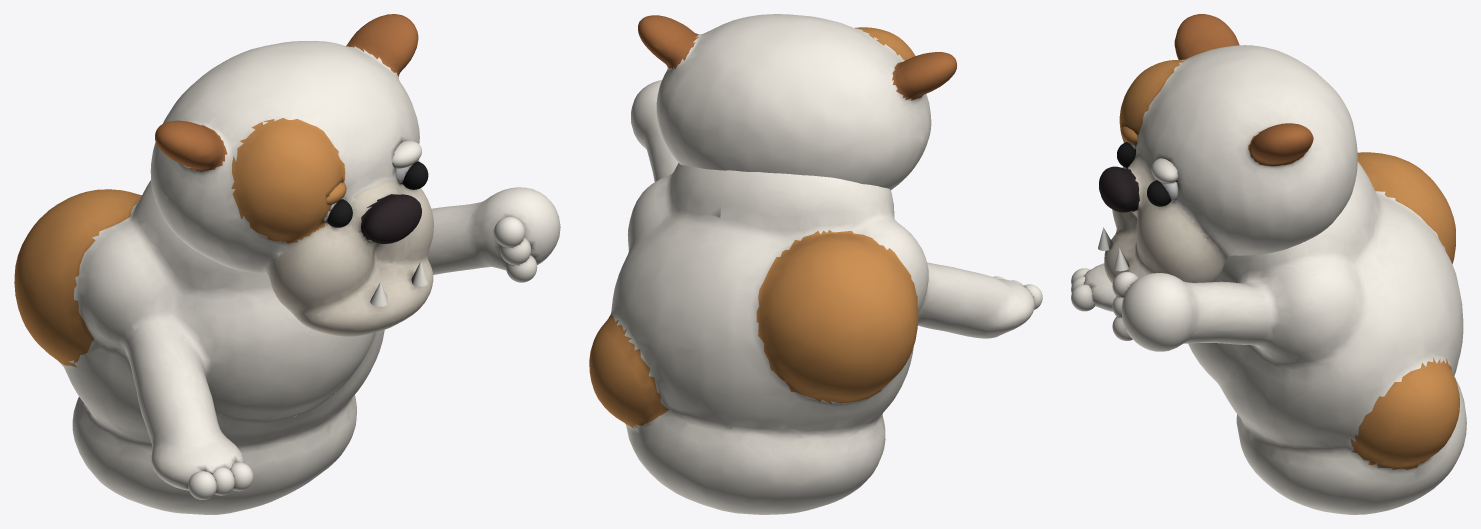
Rendered from jag-slutar-klockan-fem.glb.
3 renders of one model, left to right at view 1: azimuth 30°, elevation 25°; view 2: azimuth 150°, elevation 25°; view 3: azimuth 270°, elevation 25°, orthographic. The views are drawn at different scales.
Parts seen in each view (by area): view 1: buldogue__r0, cabeca__r0, buldogue__r1, buldogue__r4, cabeca__r6; view 2: buldogue__r0, cabeca__r0; view 3: buldogue__r0, cabeca__r0, cabeca__r6, buldogue__r6, cabeca__r5.
Boxes of the visible parts, x1=… form: buldogue__r0: x1=14, y1=180, x2=560, y2=514; cabeca__r0: x1=150, y1=14, x2=433, y2=336; buldogue__r1: x1=494, y1=216, x2=525, y2=247; buldogue__r4: x1=188, y1=471, x2=216, y2=499; cabeca__r6: x1=392, y1=140, x2=421, y2=168; buldogue__r0: x1=589, y1=80, x2=1034, y2=514; cabeca__r0: x1=638, y1=14, x2=957, y2=190; buldogue__r0: x1=1083, y1=152, x2=1466, y2=514; cabeca__r0: x1=1099, y1=14, x2=1357, y2=283; cabeca__r6: x1=1151, y1=158, x2=1178, y2=183; buldogue__r6: x1=1071, y1=284, x2=1095, y2=311; cabeca__r5: x1=1147, y1=180, x2=1170, y2=206.
Size of the model in its own units: 1.38 by 1.51 by 1.23.
